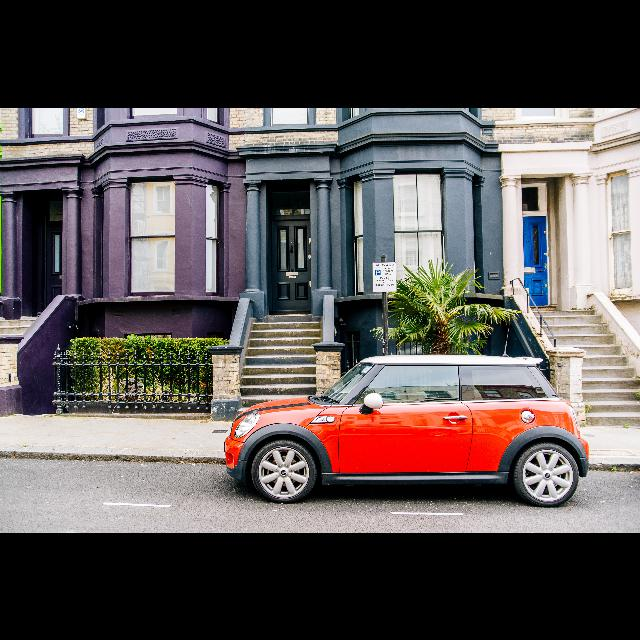cars: (212, 343, 596, 515)
